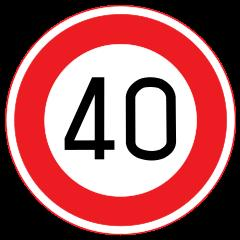Speed limit -40-: (55, 64, 187, 174)
